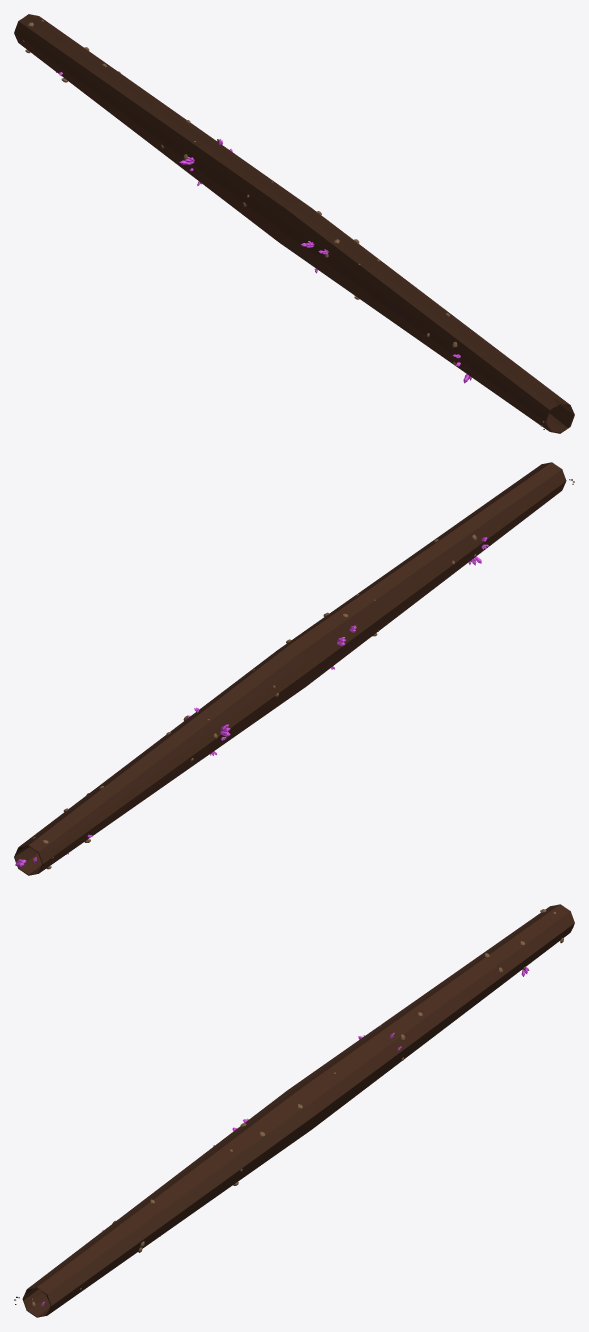
The model's file is rocky-level-real.glb.
3 views of the same model, one above another, from view 1: azimuth 30°, elevation 25°; view 2: azimuth 150°, elevation 25°; view 3: azimuth 330°, elevation 25° (orthographic).
Parts seen in each view (by area): view 1: mineshaft; view 2: mineshaft; view 3: mineshaft.
Part boxes in pixels (x1,y1,x2,y2): mineshaft: (14,14,574,433); mineshaft: (14,462,566,875); mineshaft: (22,904,574,1317).
Size of the model in its own units: 108 by 98.92 by 2026.
6 materials, 5 textured.
